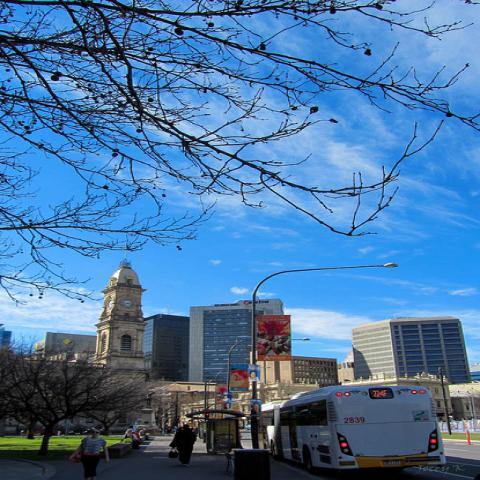bus: (264, 384, 454, 474)
